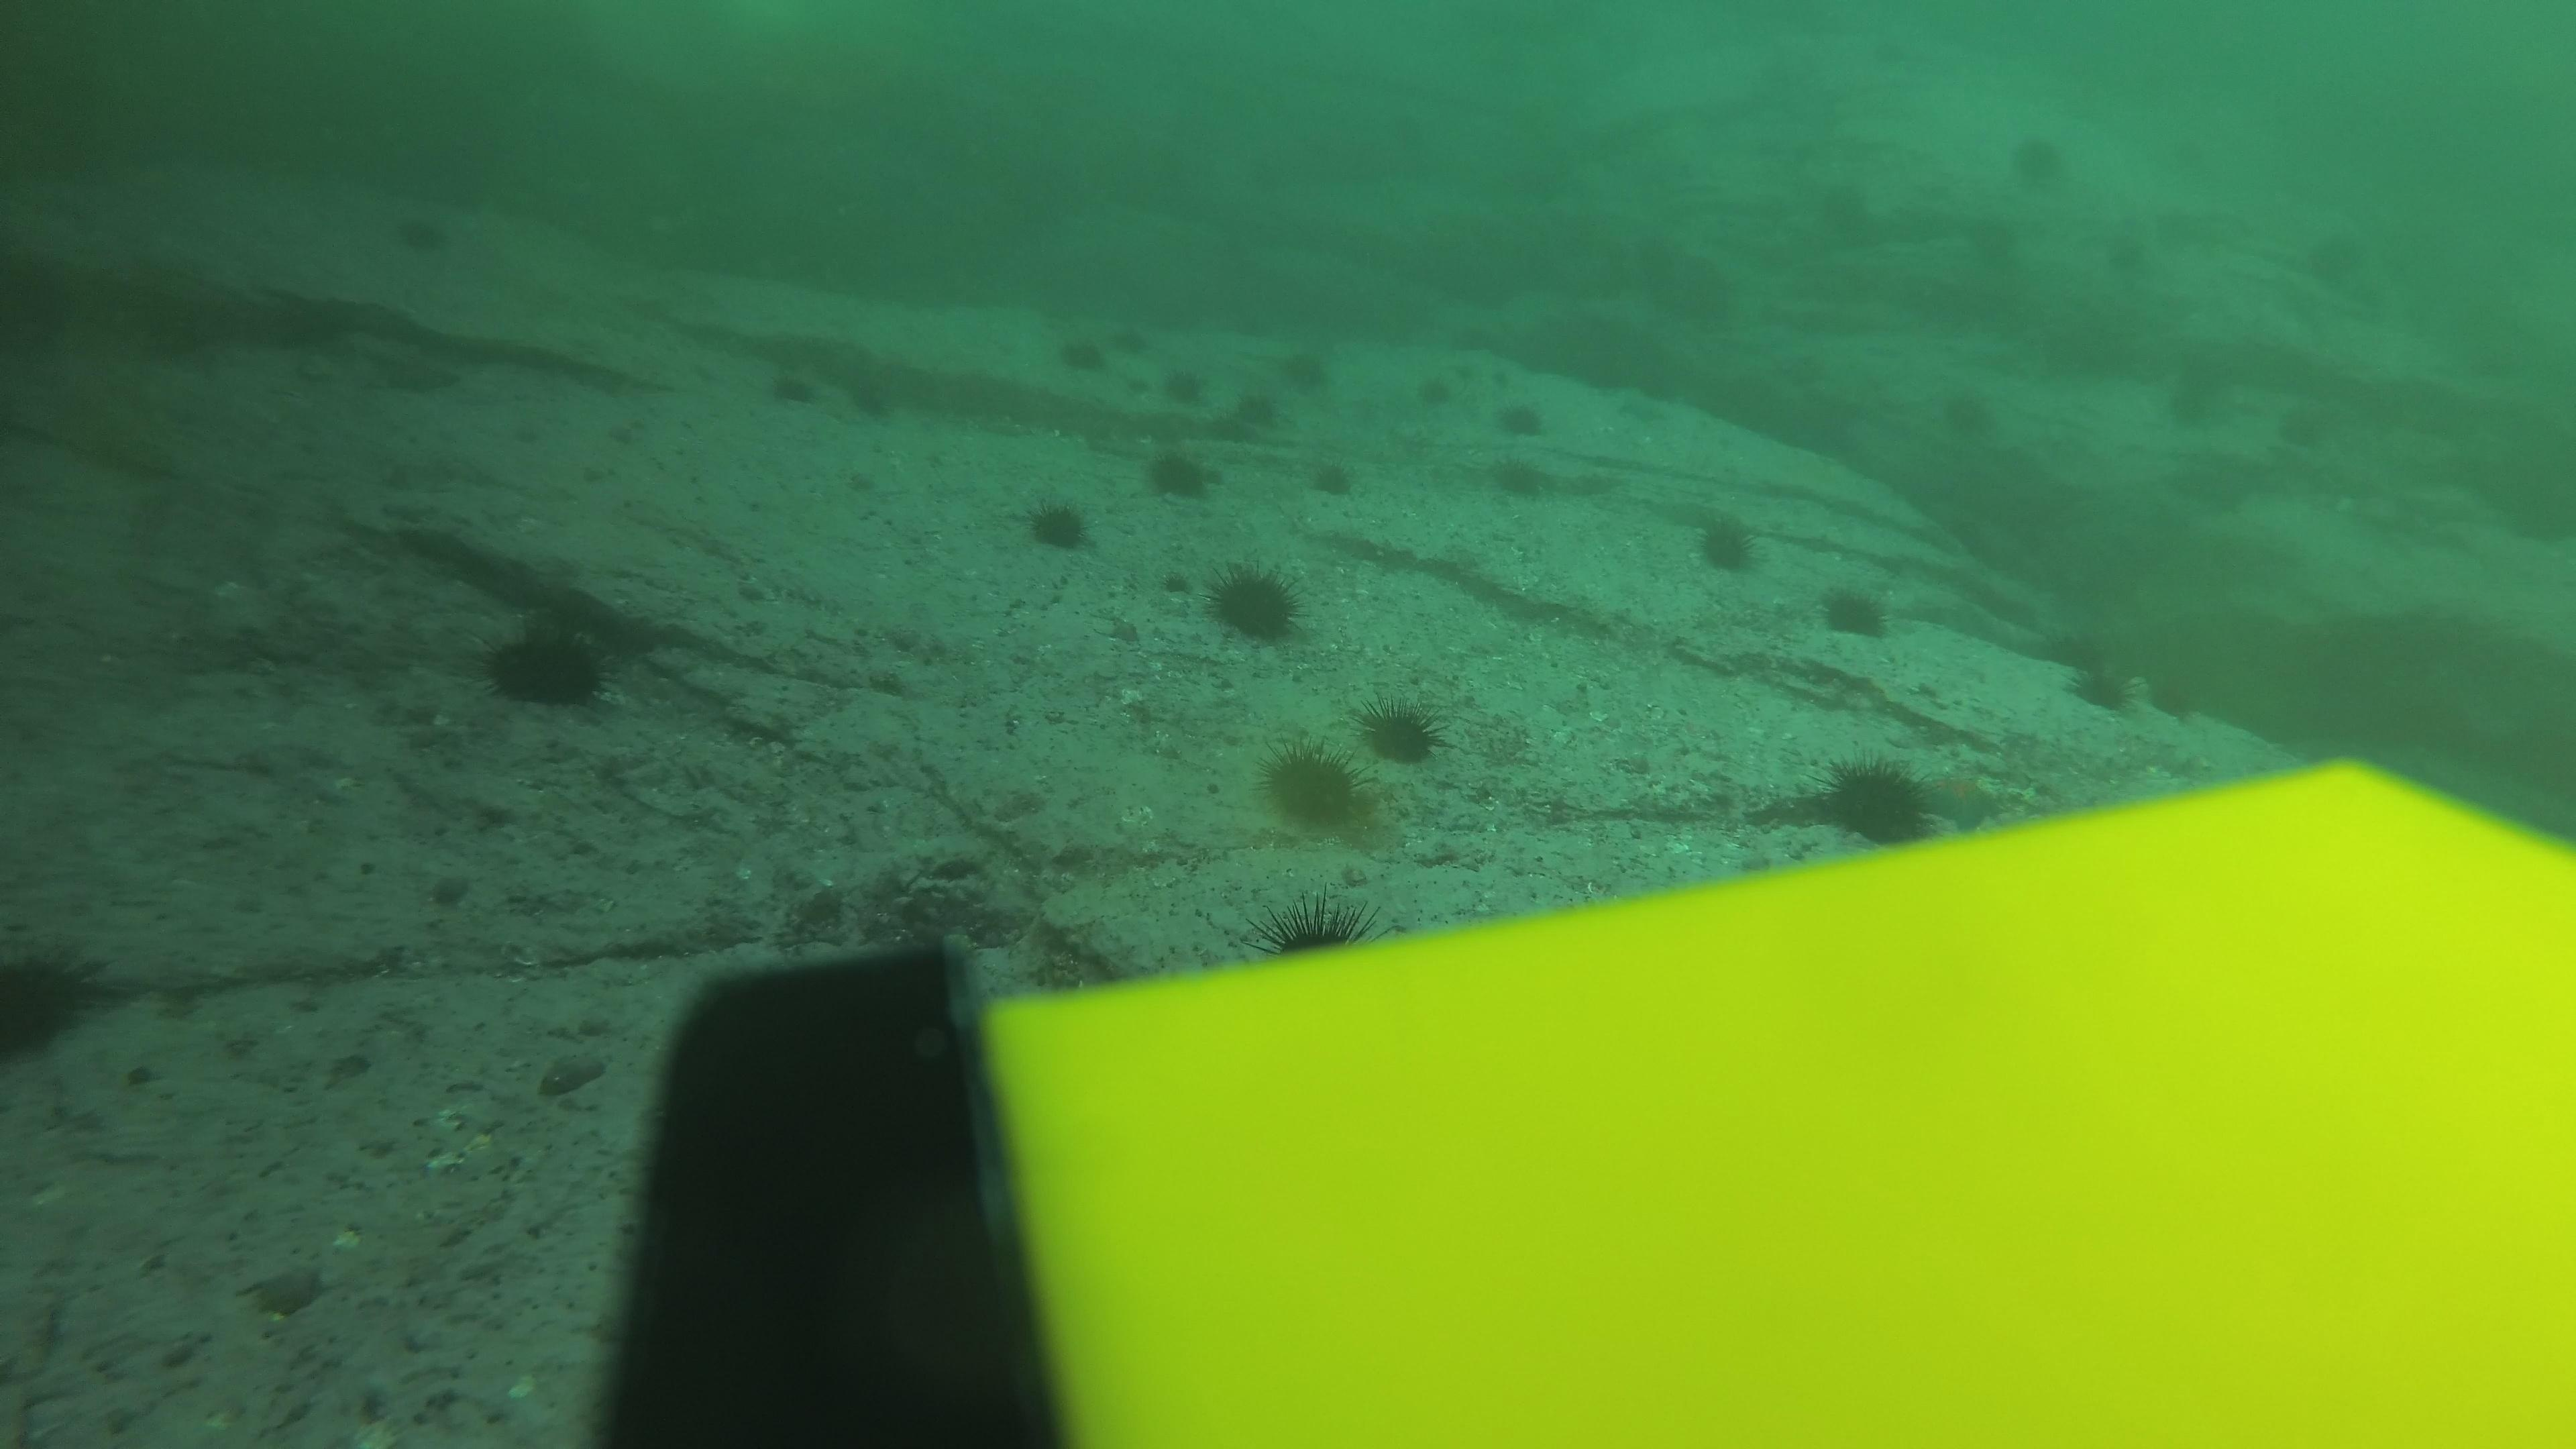echinus: (478, 616, 617, 718), (0, 936, 108, 1069), (1254, 738, 1384, 844), (1810, 752, 1943, 849), (1251, 888, 1380, 970), (1203, 559, 1307, 651), (1355, 692, 1449, 771), (1684, 506, 1767, 580), (2059, 648, 2146, 718), (1813, 577, 1897, 648), (1483, 430, 1557, 506), (1141, 441, 1221, 508), (1019, 490, 1097, 557), (1966, 205, 2033, 272), (2166, 361, 2233, 428), (2268, 386, 2335, 453), (2082, 218, 2151, 283), (2311, 223, 2380, 288), (2005, 126, 2072, 191), (1801, 177, 1868, 242), (1927, 375, 1994, 441), (1769, 340, 1836, 405), (2146, 189, 2213, 255), (2141, 672, 2210, 725), (1488, 395, 1553, 444), (1304, 455, 1362, 502), (1230, 387, 1288, 435), (1104, 322, 1162, 370), (835, 382, 893, 430), (757, 366, 816, 414), (1442, 313, 1500, 361), (389, 205, 448, 253), (1274, 345, 1332, 391), (1157, 363, 1215, 409), (1054, 334, 1113, 380), (1403, 368, 1461, 414)
starfish: (1909, 763, 2019, 835), (239, 1256, 331, 1322), (373, 334, 464, 398)
